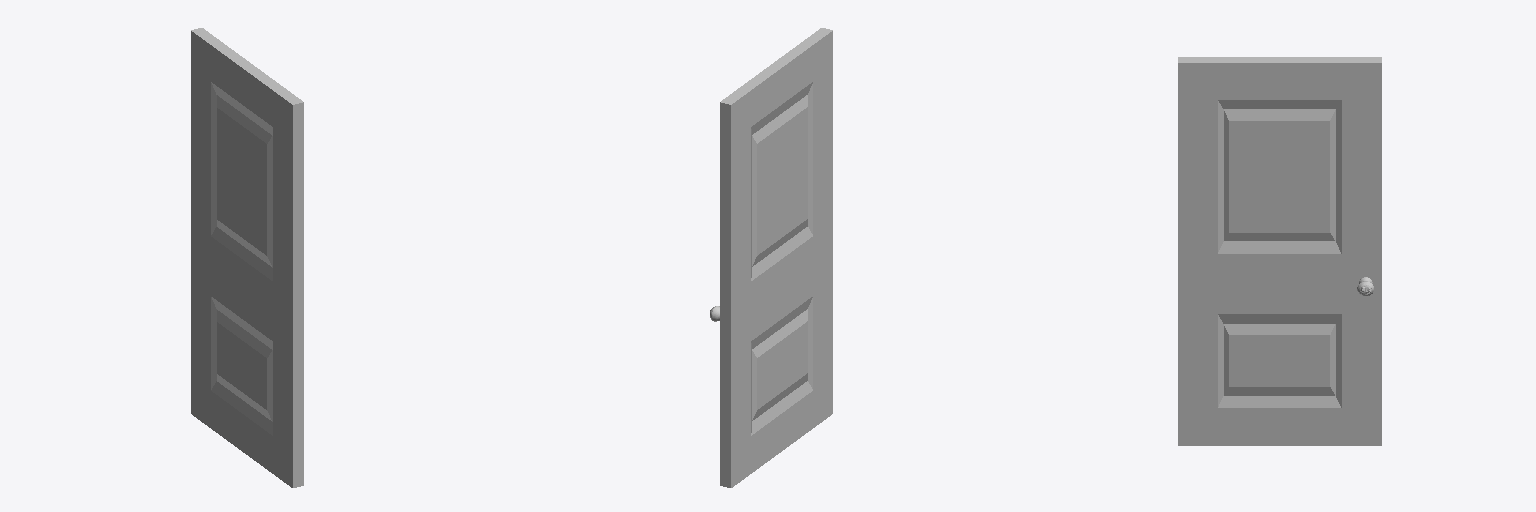
The model's file is DoorInner.obj.
The picture shows the model from 3 angles: view 1: azimuth 30°, elevation 25°; view 2: azimuth 150°, elevation 25°; view 3: azimuth 270°, elevation 25°; orthographic projection.
Visible parts, largest first — view 1: Cube_Cube.024; view 2: Cube_Cube.024; view 3: Cube_Cube.024.
Part boxes in pixels (x1,y1,x2,y2): Cube_Cube.024: (191,28,303,487); Cube_Cube.024: (720,28,832,487); Cube_Cube.024: (1178,57,1381,445).
Bounding box in the file's own units: 0.7109 × 9.17 × 4.42.